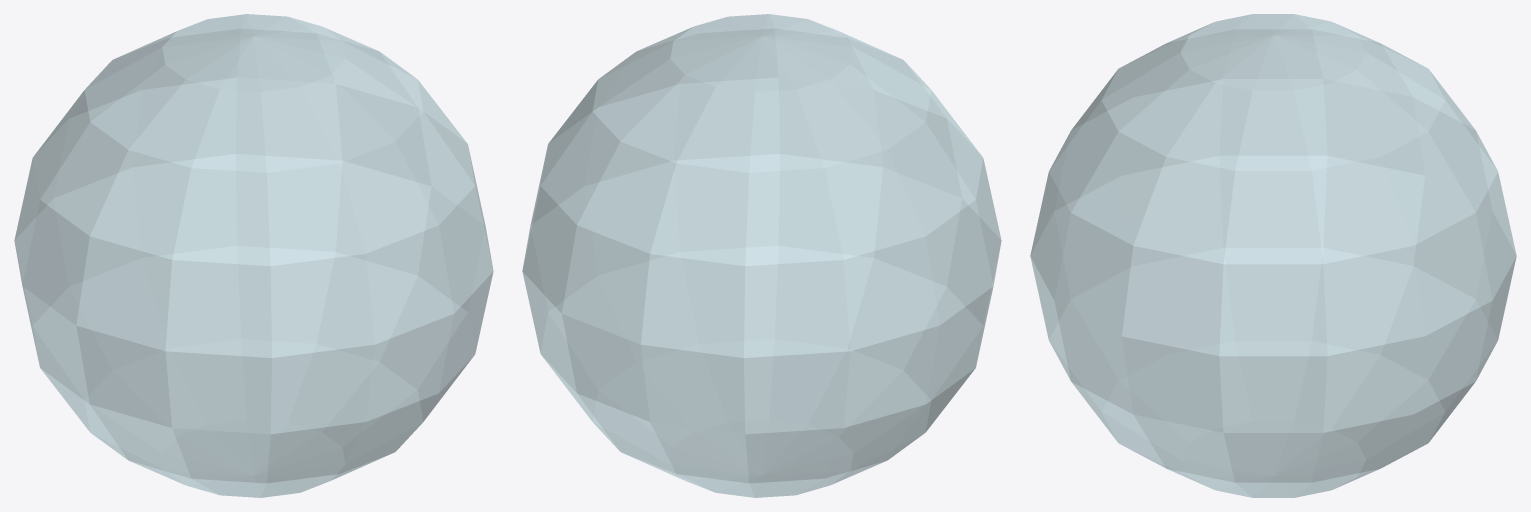
Rendered from boss_robobrain_glass.glb.
3 views of the same model, side by side, from view 1: azimuth 30°, elevation 25°; view 2: azimuth 150°, elevation 25°; view 3: azimuth 270°, elevation 25° (orthographic).
Visible parts, largest first — view 1: boss_robobrain_glass; view 2: boss_robobrain_glass; view 3: boss_robobrain_glass.
Part boxes in pixels (x1,y1,x2,y2): boss_robobrain_glass: (14, 14, 493, 497); boss_robobrain_glass: (522, 14, 1001, 497); boss_robobrain_glass: (1030, 14, 1516, 497).
Size of the model in its own units: 1.27 by 1.3 by 1.3.
Materials: 1 (1 with a texture image).
